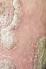plaque psoriasis: (0, 0, 23, 50), (30, 37, 46, 69), (0, 59, 18, 69)
